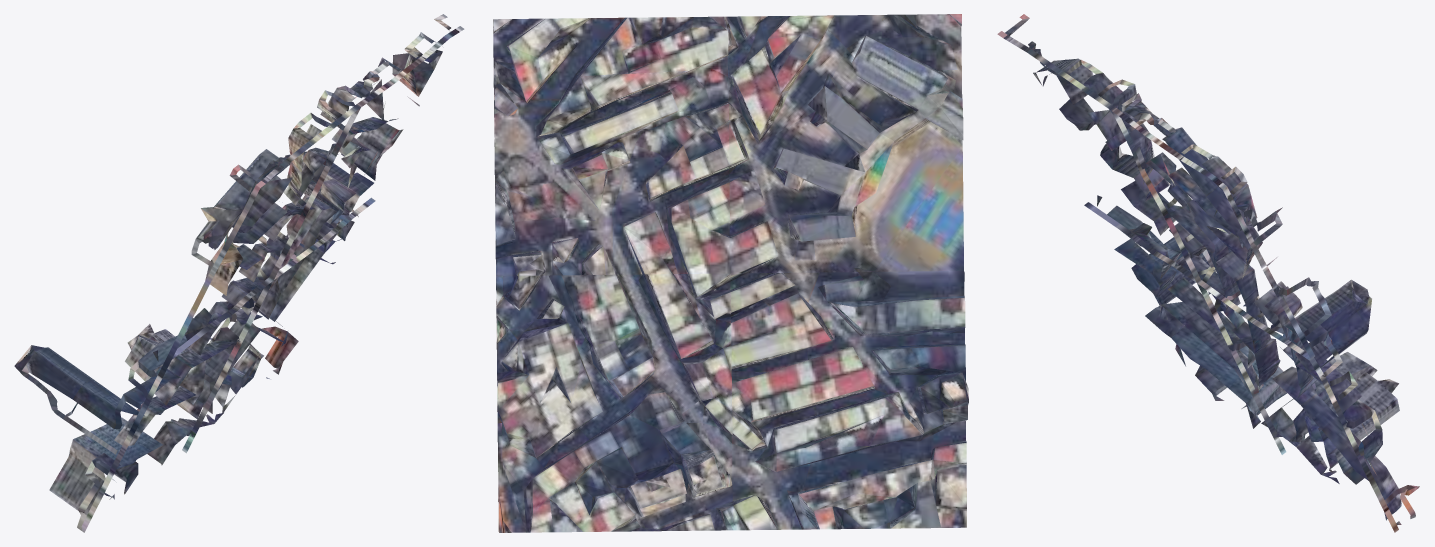
3 renders of one model, left to right at view 1: azimuth 30°, elevation 25°; view 2: azimuth 150°, elevation 25°; view 3: azimuth 270°, elevation 25°, orthographic. The views are drawn at different scales.
Bounding box in the file's own units: 331 × 286 × 272.
1 material, 1 textured.
